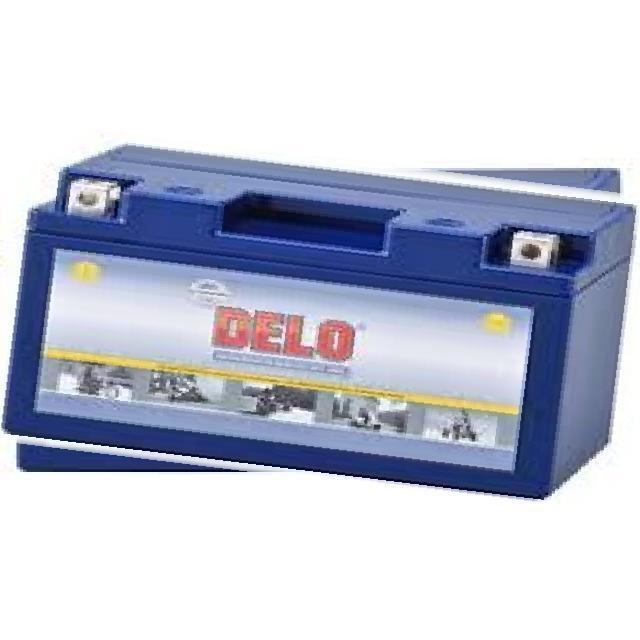Battery: (9, 125, 640, 497)
